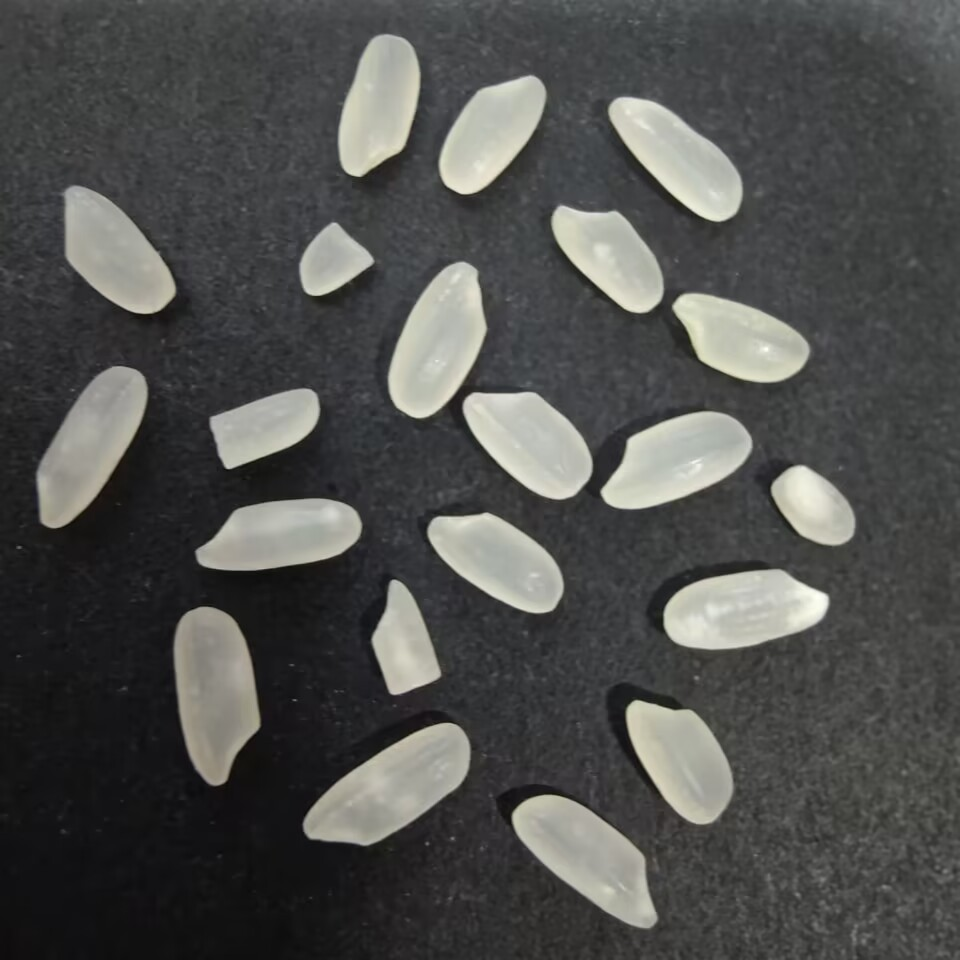broken: (202, 382, 327, 476), (366, 574, 443, 697), (770, 460, 862, 551), (293, 217, 379, 304)
rice: (293, 718, 475, 851), (505, 792, 663, 934), (28, 362, 151, 535), (606, 91, 748, 227), (168, 603, 268, 794), (595, 405, 759, 511), (384, 258, 489, 423), (57, 180, 181, 318), (456, 385, 598, 504), (657, 561, 834, 656), (618, 694, 739, 828), (423, 507, 569, 618), (189, 492, 365, 576), (430, 72, 548, 197), (668, 290, 815, 386), (548, 199, 669, 314), (336, 29, 422, 185)
